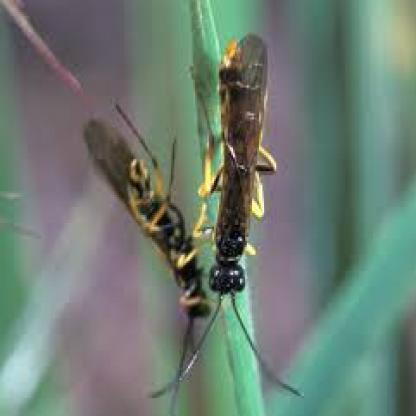sawfly: (187, 28, 292, 388), (79, 97, 212, 377)
